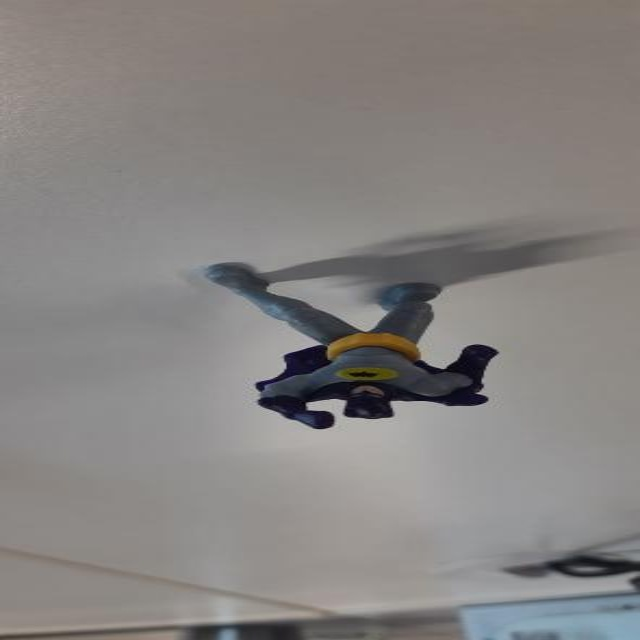Batman: (191, 254, 503, 432)
